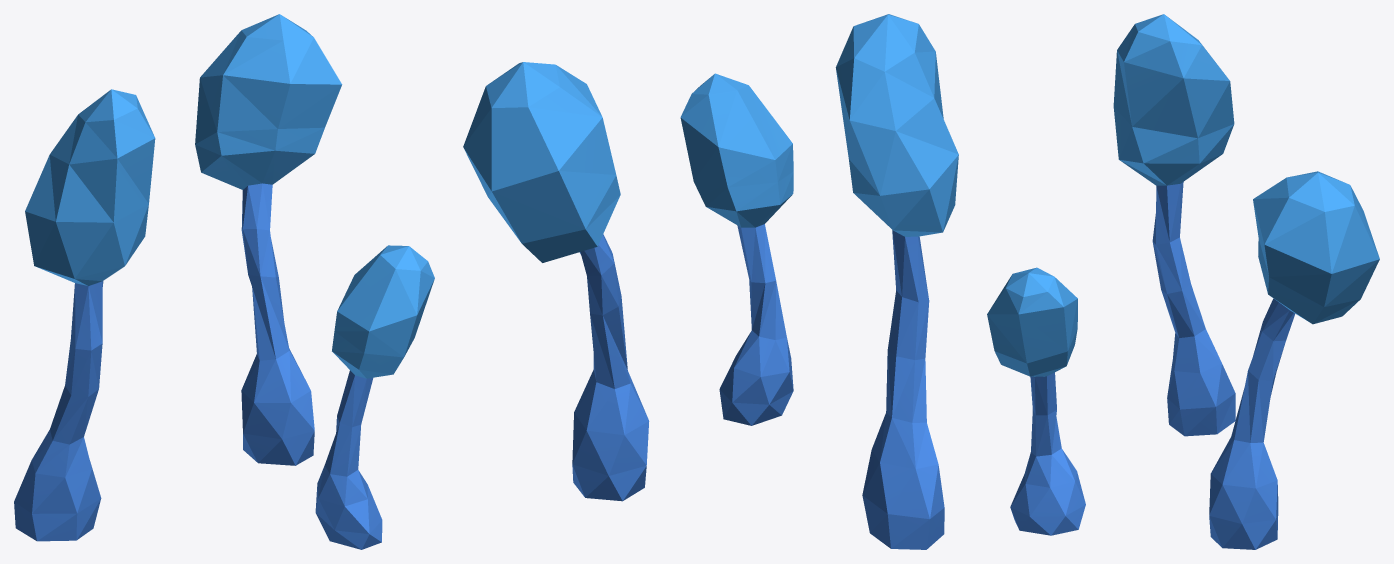
The model's file is mushroom_blue.glb.
3 renders of one model, left to right at view 1: azimuth 30°, elevation 25°; view 2: azimuth 150°, elevation 25°; view 3: azimuth 270°, elevation 25°, orthographic. The views are drawn at different scales.
Visible parts, largest first — view 1: Mushroom 1_1_A; view 2: Mushroom 1_1_A; view 3: Mushroom 1_1_A.
Boxes of the visible parts, x1,y1,x2,y2 form: Mushroom 1_1_A: (14,14,434,549); Mushroom 1_1_A: (463,14,958,549); Mushroom 1_1_A: (987,14,1379,549).
Size of the model in its own units: 0.188 by 0.22 by 0.1841.
Materials: 1 (1 with a texture image).
